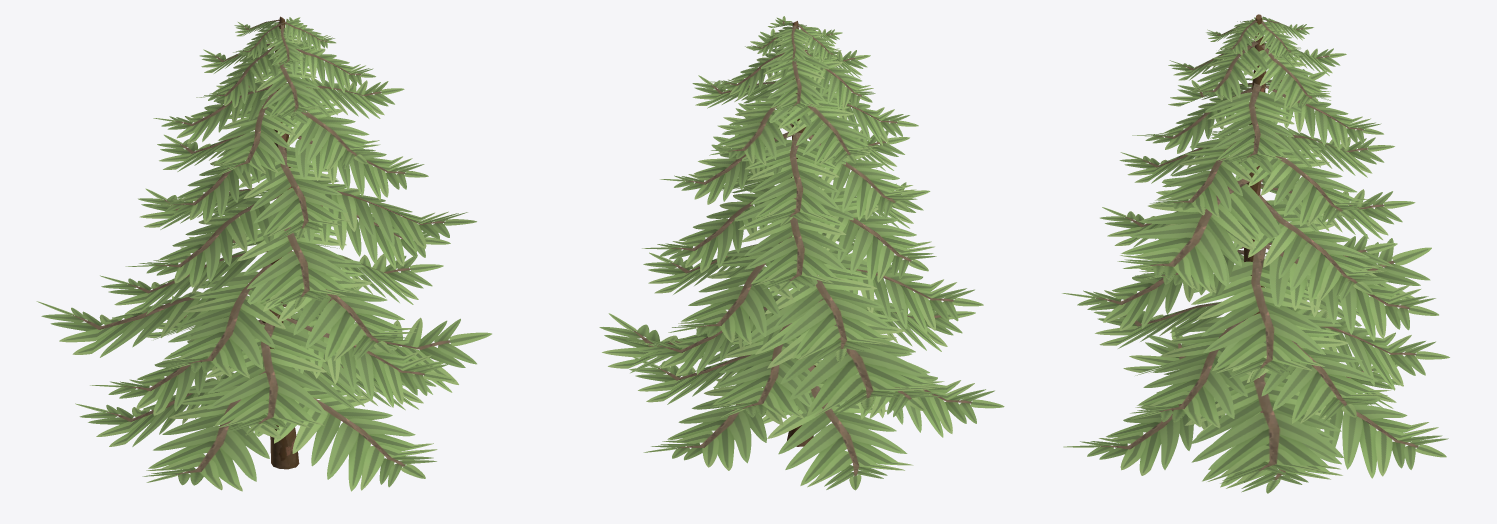
The model's file is Pine_1.gltf.
3 renders of one model, left to right at view 1: azimuth 30°, elevation 25°; view 2: azimuth 150°, elevation 25°; view 3: azimuth 270°, elevation 25°, orthographic. The views are drawn at different scales.
Parts seen in each view (by area): view 1: Pine_1; view 2: Pine_1; view 3: Pine_1.
Part boxes in pixels (<box>): Pine_1: <box>36,16,491,491</box>; Pine_1: <box>599,16,1004,490</box>; Pine_1: <box>1062,14,1449,493</box>.
Size of the model in its own units: 7.73 by 7.58 by 6.76.
2 materials, 2 textured.
